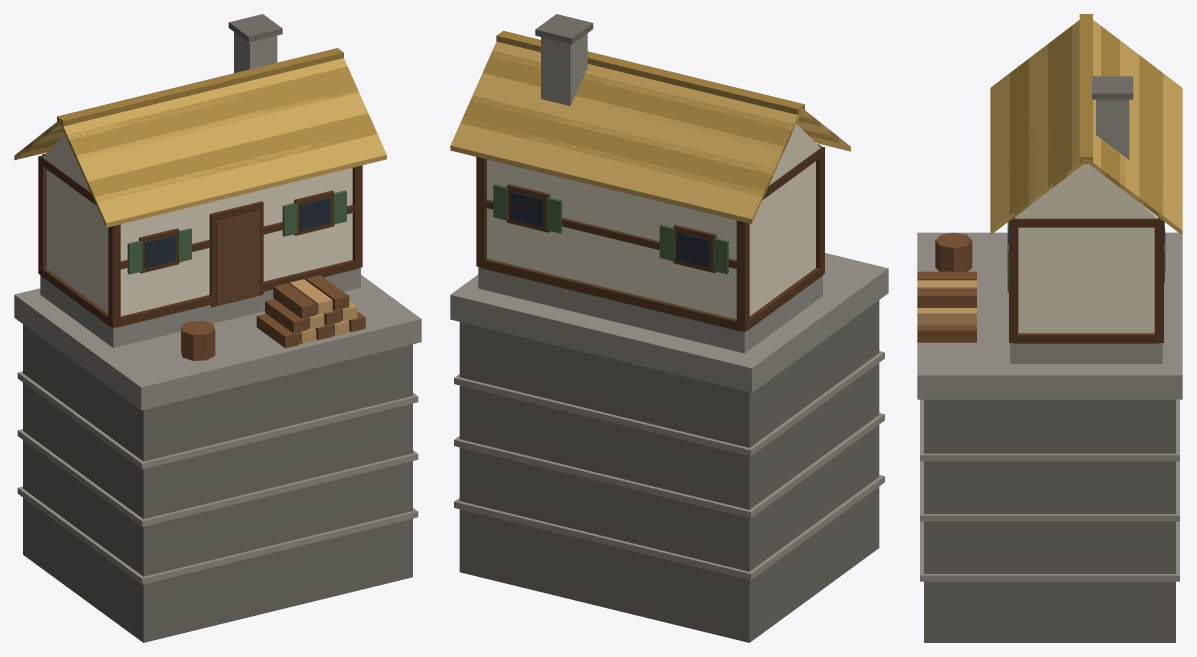
File: firewood_splitter.glb
3 renders of one model, left to right at view 1: azimuth 30°, elevation 25°; view 2: azimuth 150°, elevation 25°; view 3: azimuth 270°, elevation 25°, orthographic. The views are drawn at different scales.
Parts seen in each view (by area): view 1: firewood_splitter; view 2: firewood_splitter; view 3: firewood_splitter.
Part boxes in pixels (bbox=[...]): firewood_splitter: bbox=[14, 14, 421, 642]; firewood_splitter: bbox=[450, 14, 888, 642]; firewood_splitter: bbox=[917, 14, 1182, 642].
Bounding box in the file's own units: 5.1 × 8.72 × 4.
